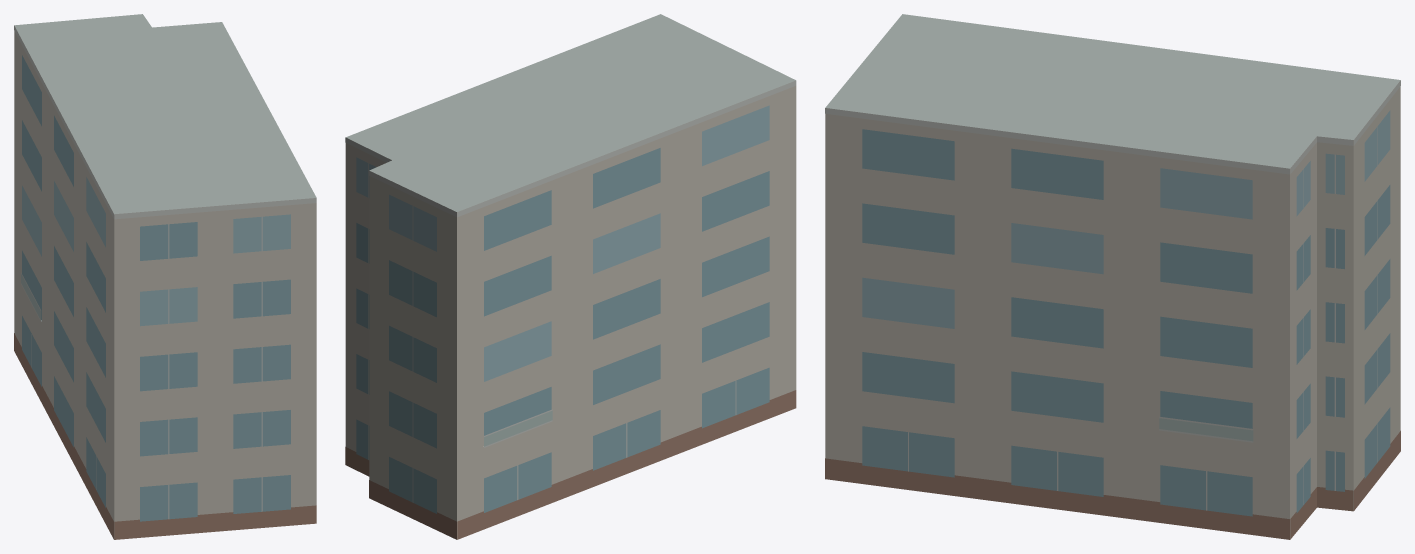
File: survey-upis-32868109.glb
The picture shows the model from 3 angles, left to right: view 1: azimuth 30°, elevation 25°; view 2: azimuth 150°, elevation 25°; view 3: azimuth 270°, elevation 25°; orthographic projection. The views are drawn at different scales.
Visible parts, largest first — view 1: survey-upis-32868109.tmp; view 2: survey-upis-32868109.tmp; view 3: survey-upis-32868109.tmp.
Boxes of the visible parts, x1,y1,x2,y2 form: survey-upis-32868109.tmp: (14, 14, 316, 539); survey-upis-32868109.tmp: (345, 14, 796, 539); survey-upis-32868109.tmp: (825, 14, 1400, 539).
Size of the model in its own units: 13.77 by 15.4 by 21.65.
